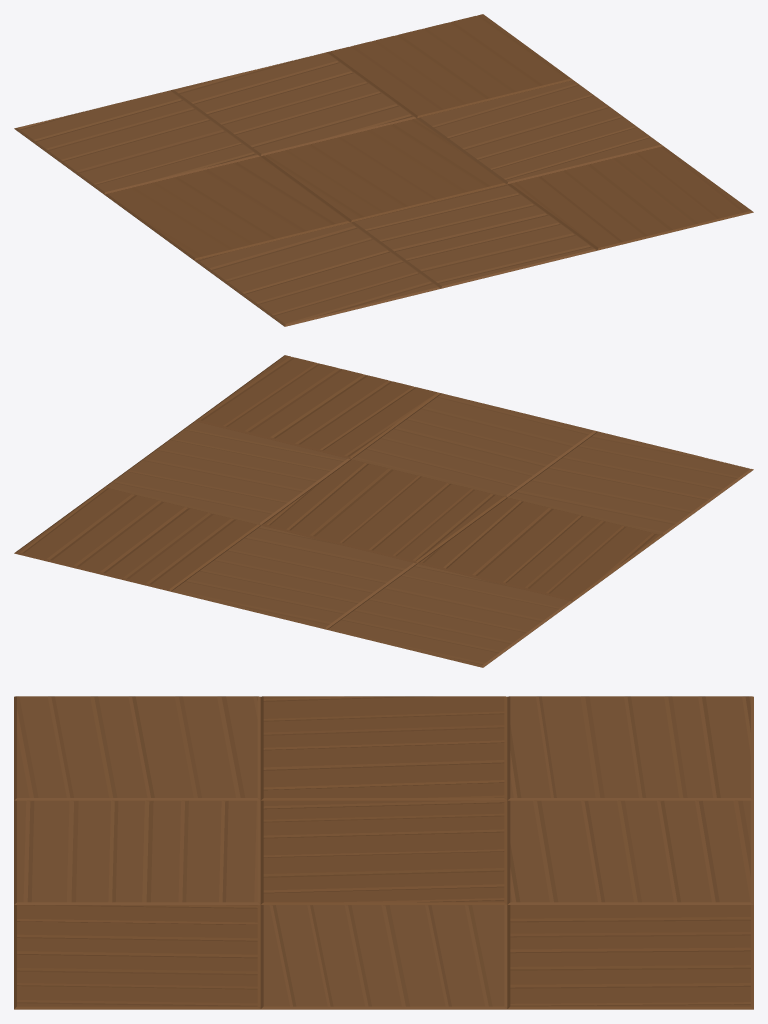
The model's file is Wood_Floor_Module_02_00.glb.
3 renders of one model, top to bottom at view 1: azimuth 30°, elevation 25°; view 2: azimuth 150°, elevation 25°; view 3: azimuth 270°, elevation 25°, orthographic. The views are drawn at different scales.
Visible parts, largest first — view 1: Wood_Floor_Module_02_00; view 2: Wood_Floor_Module_02_00; view 3: Wood_Floor_Module_02_00.
Part boxes in pixels (x1,y1,x2,y2): Wood_Floor_Module_02_00: [14, 14, 753, 326]; Wood_Floor_Module_02_00: [14, 355, 753, 667]; Wood_Floor_Module_02_00: [14, 696, 753, 1009].
Bounding box in the file's own units: 4.74 × 0.012 × 4.74.
